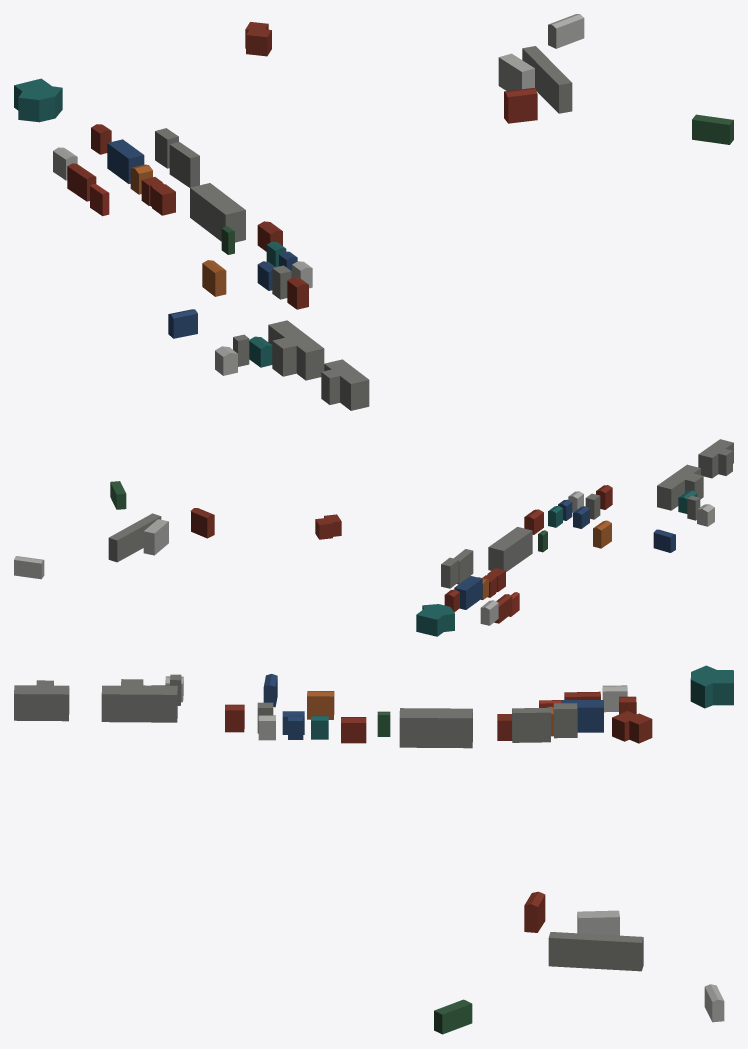
Rendered from near-16-54726-29747.37f227bb.glb.
3 renders of one model, top to bottom at view 1: azimuth 30°, elevation 25°; view 2: azimuth 150°, elevation 25°; view 3: azimuth 270°, elevation 25°, orthographic. The views are drawn at different scales.
Bounding box in the file's own units: 599 × 117 × 578.
